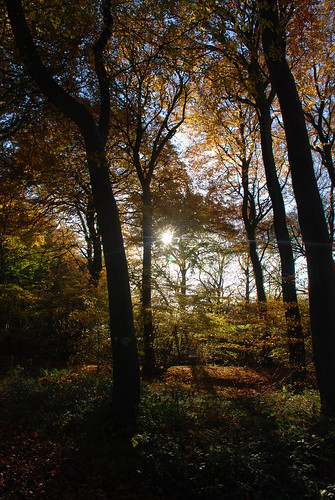vegetation: (1, 1, 332, 495)
